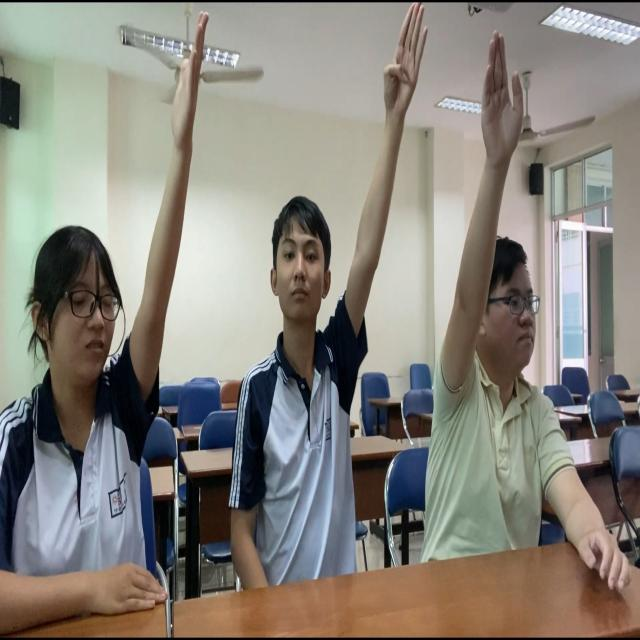raise_hand: (1, 10, 219, 640), (224, 1, 421, 640), (442, 4, 639, 640)
